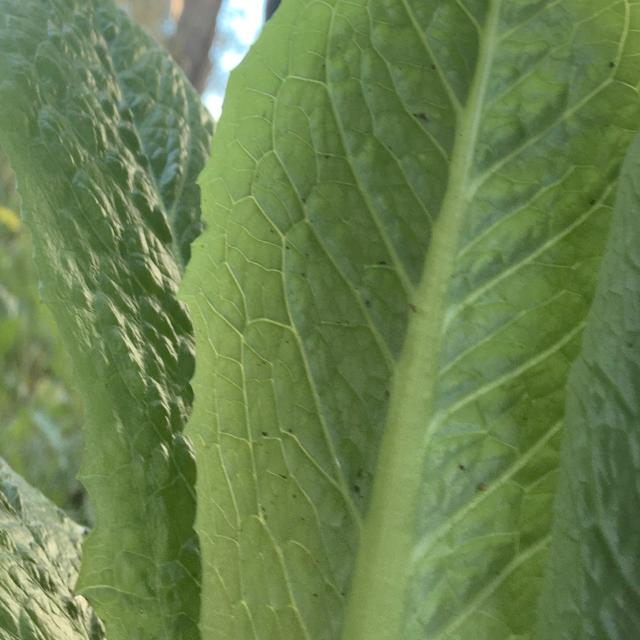Healthy Lettuce: (2, 3, 212, 635)
